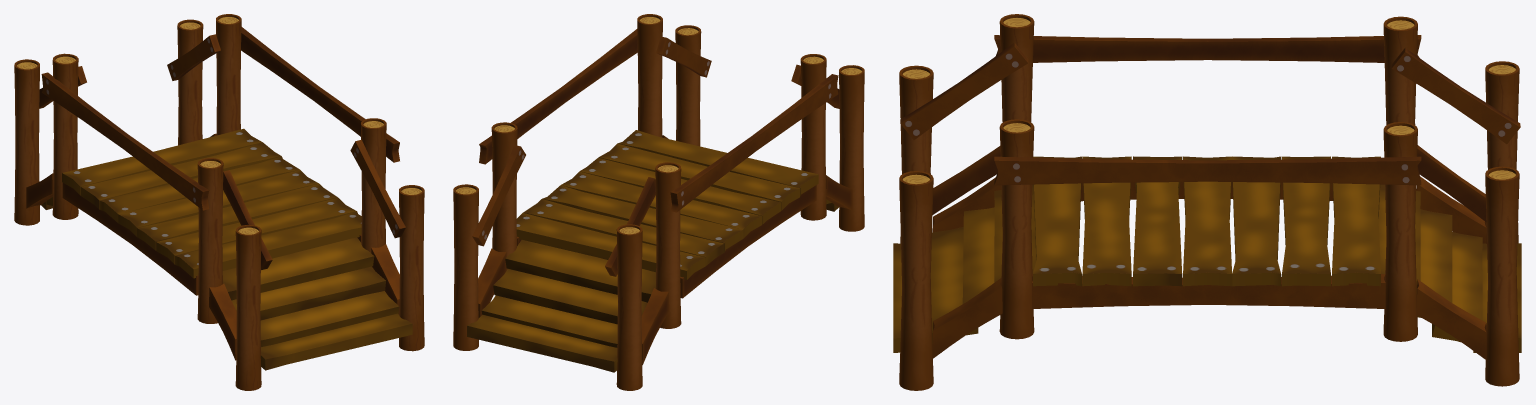
Rendered from Puente_Unity.fbx.
3 views of the same model, side by side, from view 1: azimuth 30°, elevation 25°; view 2: azimuth 150°, elevation 25°; view 3: azimuth 270°, elevation 25° (orthographic). The views are drawn at different scales.
Parts seen in each view (by area): view 1: Poste2, Poste6, Poste3, TablaChicaEscalera, TablaChicaEscalera2, TablaChicaEscalera3, TablaLarga1, Poste1, TablaChicaEscalera1, TablaPuenteLarga3, TablaPuenteLarga6, Poste4 (+16 smaller); view 2: Poste6, Poste7, Poste2, TablaChicaEscalera4, TablaChicaEscalera5, TablaChicaEscalera6, TablaLarga1, Poste4, TablaPuenteLarga6, TablaPuenteLarga3, Poste1, TablaChicaEscalera7 (+16 smaller); view 3: TablaLarga, TablaLarga1, TablaLargaUnder, Poste7, Poste3, Poste5, Poste, TablaPuenteLarga, TablaPuenteLarga4, TablaPuenteLarga1, TablaPuenteLarga2, TablaPuenteLarga5 (+22 smaller).
Boxes of the visible parts, box(x1,y1,x2,y2) form: Poste2: box(235, 225, 261, 390); Poste6: box(14, 59, 39, 225); Poste3: box(399, 185, 424, 351); TablaChicaEscalera: box(222, 237, 374, 300); TablaChicaEscalera2: box(260, 291, 399, 346); TablaChicaEscalera3: box(260, 313, 412, 370); TablaLarga1: box(41, 72, 209, 210); Poste1: box(197, 158, 223, 323); TablaChicaEscalera1: box(231, 266, 385, 320); TablaPuenteLarga3: box(175, 211, 361, 278); TablaPuenteLarga6: box(62, 128, 262, 195); Poste4: box(52, 53, 78, 219); Poste6: box(616, 224, 642, 390); Poste7: box(453, 184, 478, 350); Poste2: box(839, 65, 864, 231); TablaChicaEscalera4: box(467, 314, 617, 372); TablaChicaEscalera5: box(505, 240, 655, 302); TablaChicaEscalera6: box(493, 269, 647, 324); TablaLarga1: box(670, 74, 838, 212); Poste4: box(655, 162, 681, 328); TablaPuenteLarga6: box(516, 213, 705, 279); TablaPuenteLarga3: box(617, 130, 818, 196); Poste1: box(800, 54, 826, 220); TablaChicaEscalera7: box(481, 295, 617, 347); TablaLarga: box(994, 156, 1421, 185); TablaLarga1: box(994, 35, 1421, 62); TablaLargaUnder: box(1032, 274, 1385, 308); Poste7: box(1485, 166, 1519, 386); Poste3: box(899, 171, 933, 390); Poste5: box(1383, 122, 1417, 341); Poste: box(999, 119, 1034, 339); TablaPuenteLarga: box(1183, 156, 1232, 286); TablaPuenteLarga4: box(1082, 156, 1131, 286); TablaPuenteLarga1: box(1133, 156, 1182, 286); TablaPuenteLarga2: box(1232, 156, 1281, 286); TablaPuenteLarga5: box(1282, 156, 1330, 286).
Bounding box in the file's own units: 31.02 × 29.2 × 64.65.
